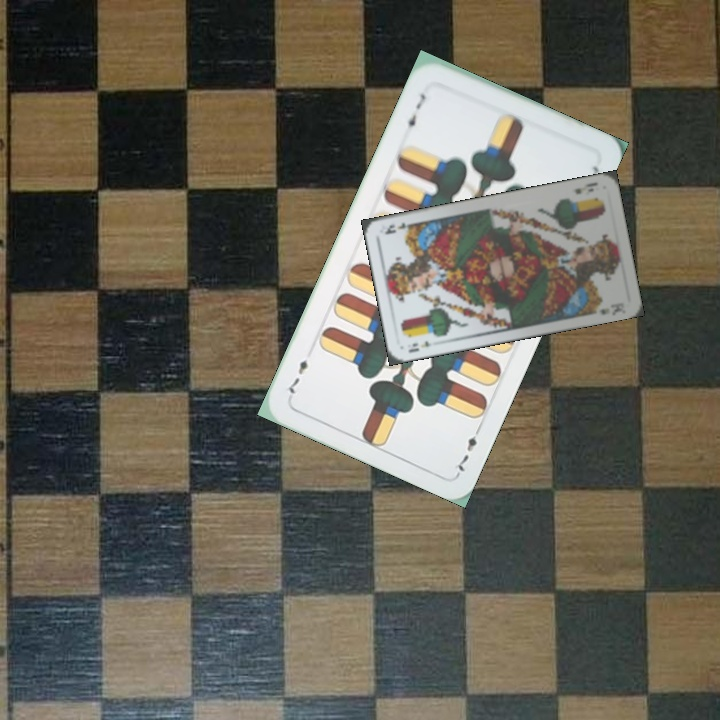E7: (450, 421, 485, 477), (400, 89, 429, 135)
EK: (405, 336, 442, 355), (570, 178, 600, 196)
